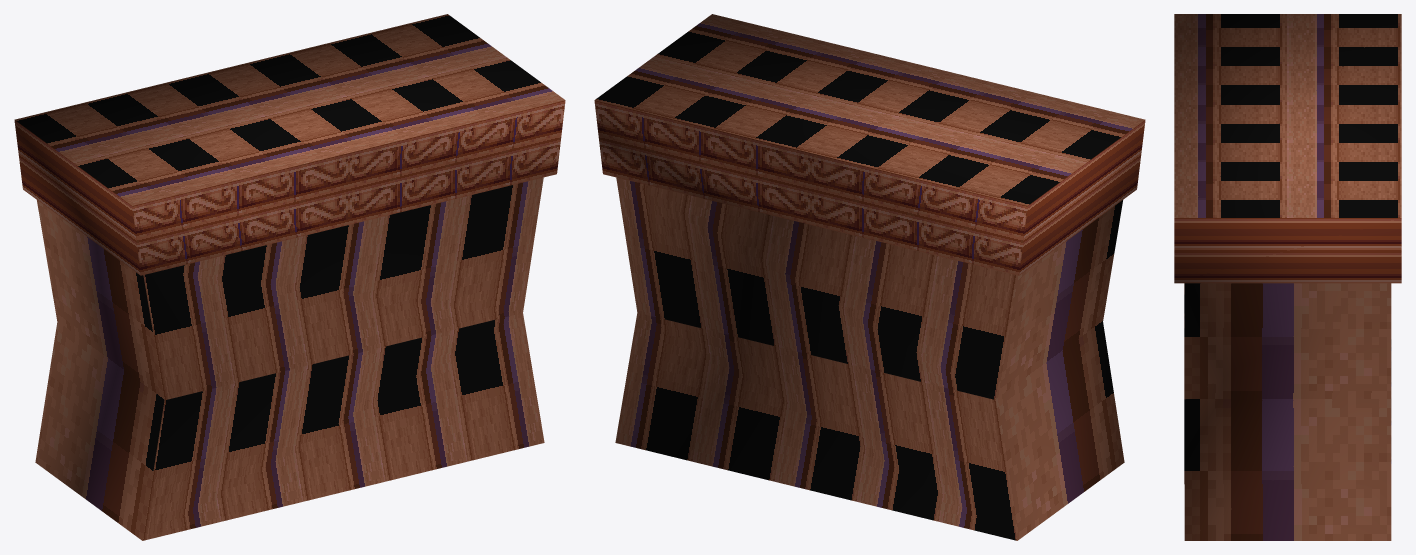
Rendered from 3134IMFY01_03.gltf.
The picture shows the model from 3 angles, left to right: view 1: azimuth 30°, elevation 25°; view 2: azimuth 150°, elevation 25°; view 3: azimuth 270°, elevation 25°; orthographic projection. The views are drawn at different scales.
Visible parts, largest first — view 1: 3134IMFY01_03; view 2: 3134IMFY01_03; view 3: 3134IMFY01_03.
Boxes of the visible parts, left/top/right/bottom form: 3134IMFY01_03: left=14, top=14, right=565, bottom=540; 3134IMFY01_03: left=594, top=14, right=1145, bottom=540; 3134IMFY01_03: left=1174, top=14, right=1401, bottom=540.
Size of the model in its own units: 1.9 by 1.44 by 0.895.
Materials: 4 (4 with a texture image).
